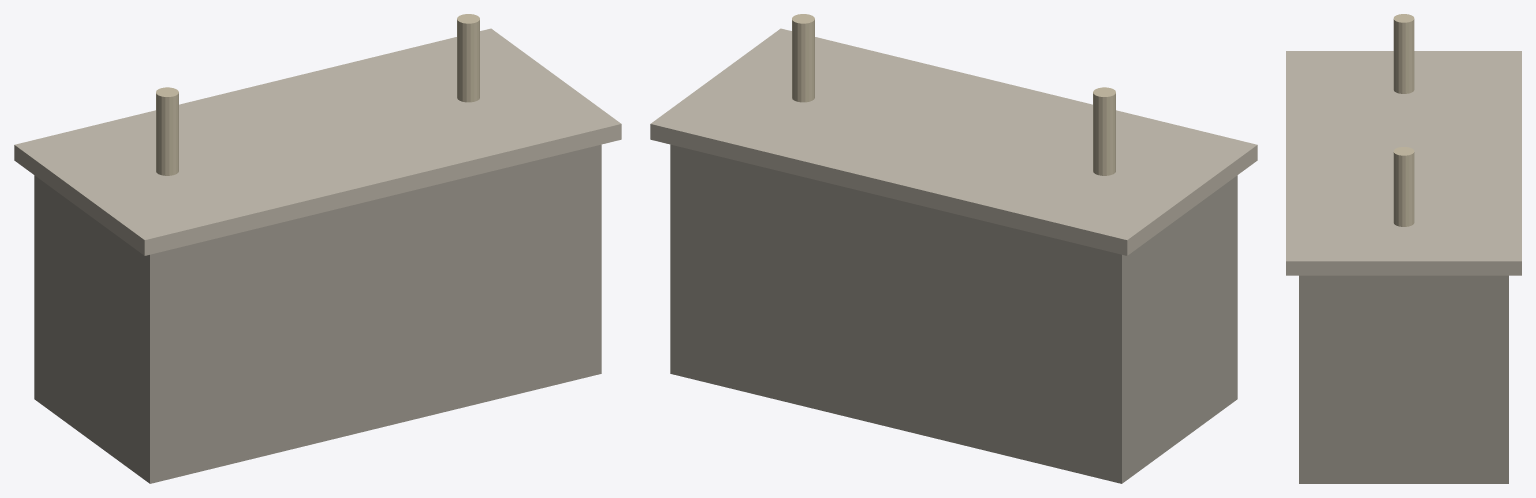
File: altar.2ecddf68.glb
3 views of the same model, side by side, from view 1: azimuth 30°, elevation 25°; view 2: azimuth 150°, elevation 25°; view 3: azimuth 270°, elevation 25° (orthographic). The views are drawn at different scales.
Parts seen in each view (by area): view 1: body; view 2: body; view 3: body.
Part boxes in pixels (left/top/right/bottom): body: left=14, top=14, right=621, bottom=483; body: left=650, top=14, right=1257, bottom=483; body: left=1286, top=14, right=1521, bottom=483.
Size of the model in its own units: 1.9 by 1.26 by 0.9.
